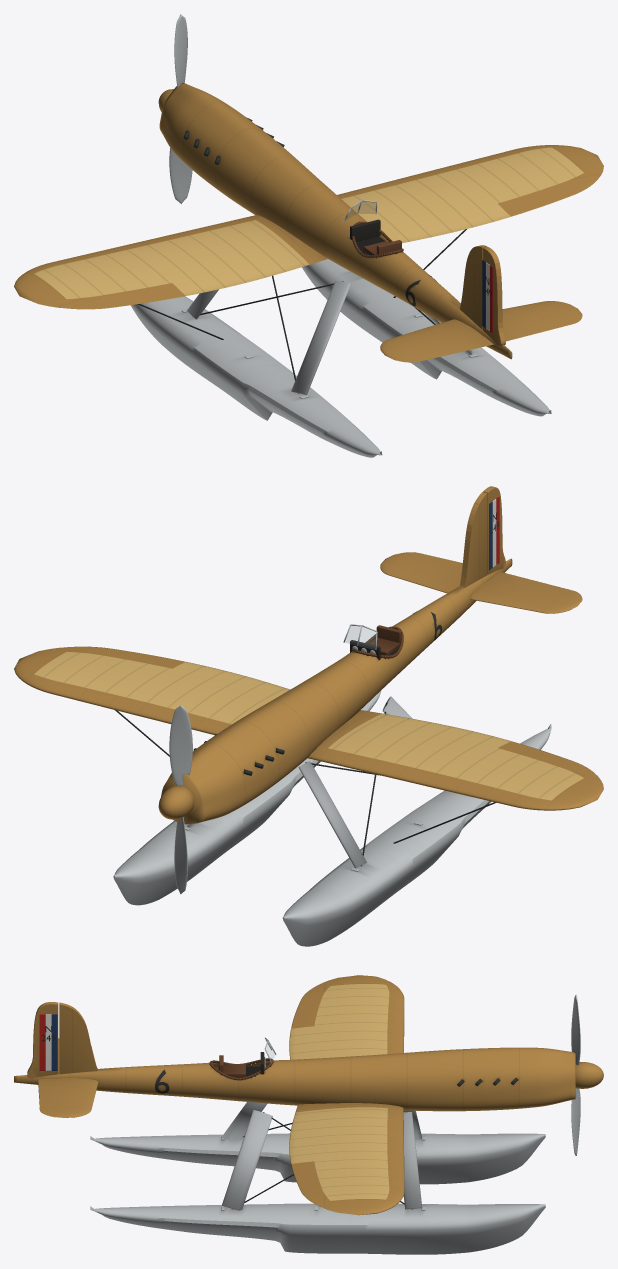
File: gloster6.glb
3 views of the same model, one above another, from view 1: azimuth 30°, elevation 25°; view 2: azimuth 150°, elevation 25°; view 3: azimuth 270°, elevation 25° (orthographic). The views are drawn at different scales.
Parts seen in each view (by area): view 1: AircraftBody, Port hard-chine stepped float, Starboard hard-chine stepped float, Fitted trailing-edge aileron, Fitted trailing-edge aileron.001, Fitted tailplane elevator, Curved hinged rudder, Twisted propeller blade.001, Twisted propeller blade; view 2: AircraftBody, Port hard-chine stepped float, Starboard hard-chine stepped float, Twisted propeller blade, Fitted trailing-edge aileron, Fitted trailing-edge aileron.001, Spinner, Fitted tailplane elevator, Twisted propeller blade.001, Curved hinged rudder; view 3: AircraftBody, Starboard hard-chine stepped float, Port hard-chine stepped float, Curved hinged rudder, Fitted trailing-edge aileron.001, Fitted trailing-edge aileron, Spinner, Twisted propeller blade, Twisted propeller blade.001, Fitted tailplane elevator, Rudder national stripe.005.
Part boxes in pixels (left/top/right/bottom): AircraftBody: left=14, top=83, right=603, bottom=398; Port hard-chine stepped float: left=131, top=296, right=382, bottom=457; Starboard hard-chine stepped float: left=302, top=259, right=551, bottom=416; Fitted trailing-edge aileron: left=51, top=283, right=185, bottom=309; Fitted trailing-edge aileron.001: left=498, top=168, right=600, bottom=216; Fitted tailplane elevator: left=395, top=313, right=582, bottom=362; Curved hinged rudder: left=483, top=247, right=505, bottom=346; Twisted propeller blade.001: left=169, top=148, right=192, bottom=203; Twisted propeller blade: left=174, top=14, right=187, bottom=88; AircraftBody: left=14, top=492, right=603, bottom=871; Port hard-chine stepped float: left=282, top=724, right=551, bottom=946; Starboard hard-chine stepped float: left=113, top=690, right=381, bottom=905; Twisted propeller blade: left=169, top=704, right=192, bottom=786; Fitted trailing-edge aileron: left=498, top=741, right=600, bottom=783; Fitted trailing-edge aileron.001: left=52, top=646, right=185, bottom=668; Spinner: left=158, top=785, right=194, bottom=819; Fitted tailplane elevator: left=395, top=552, right=582, bottom=600; Twisted propeller blade.001: left=174, top=817, right=187, bottom=894; Curved hinged rudder: left=483, top=486, right=505, bottom=574; AircraftBody: left=14, top=975, right=575, bottom=1215; Starboard hard-chine stepped float: left=90, top=1203, right=545, bottom=1254; Port hard-chine stepped float: left=90, top=1133, right=545, bottom=1184; Curved hinged rudder: left=27, top=1002, right=58, bottom=1078; Fitted trailing-edge aileron.001: left=291, top=1161, right=336, bottom=1207; Fitted trailing-edge aileron: left=291, top=981, right=335, bottom=1028; Spinner: left=575, top=1062, right=603, bottom=1088; Twisted propeller blade: left=571, top=994, right=580, bottom=1065; Twisted propeller blade.001: left=571, top=1088, right=580, bottom=1155; Fitted tailplane elevator: left=38, top=1078, right=55, bottom=1116; Rudder national stripe.005: left=39, top=1014, right=45, bottom=1070.
Bounding box in the file's own units: 7.92 × 3.46 × 8.23.
Materials: 10 (2 with a texture image).
